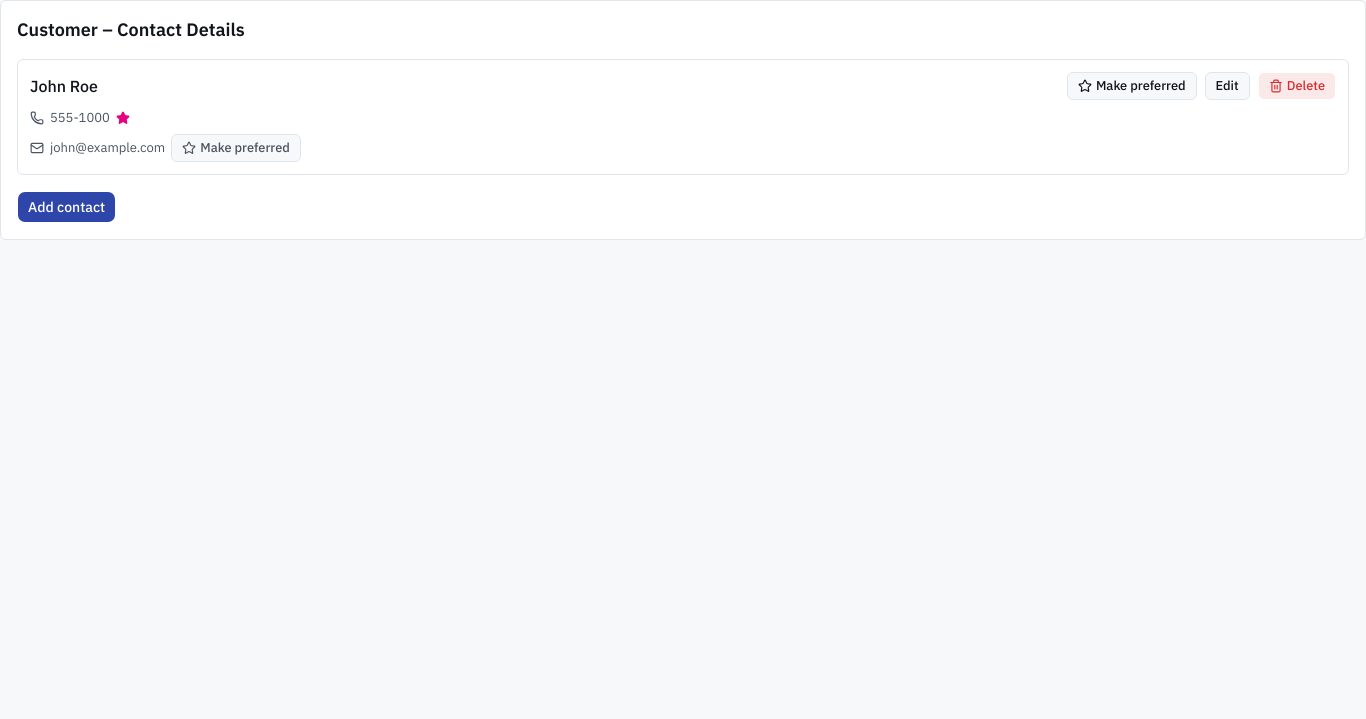
Test case: ContactManagerPanel › editing a contact and clearing its preferred method while another is populated shows the inline block message
This screenshot has width=1366, height=719.
Click the button "Edit": [1227, 86] box [1205,72,1250,100]
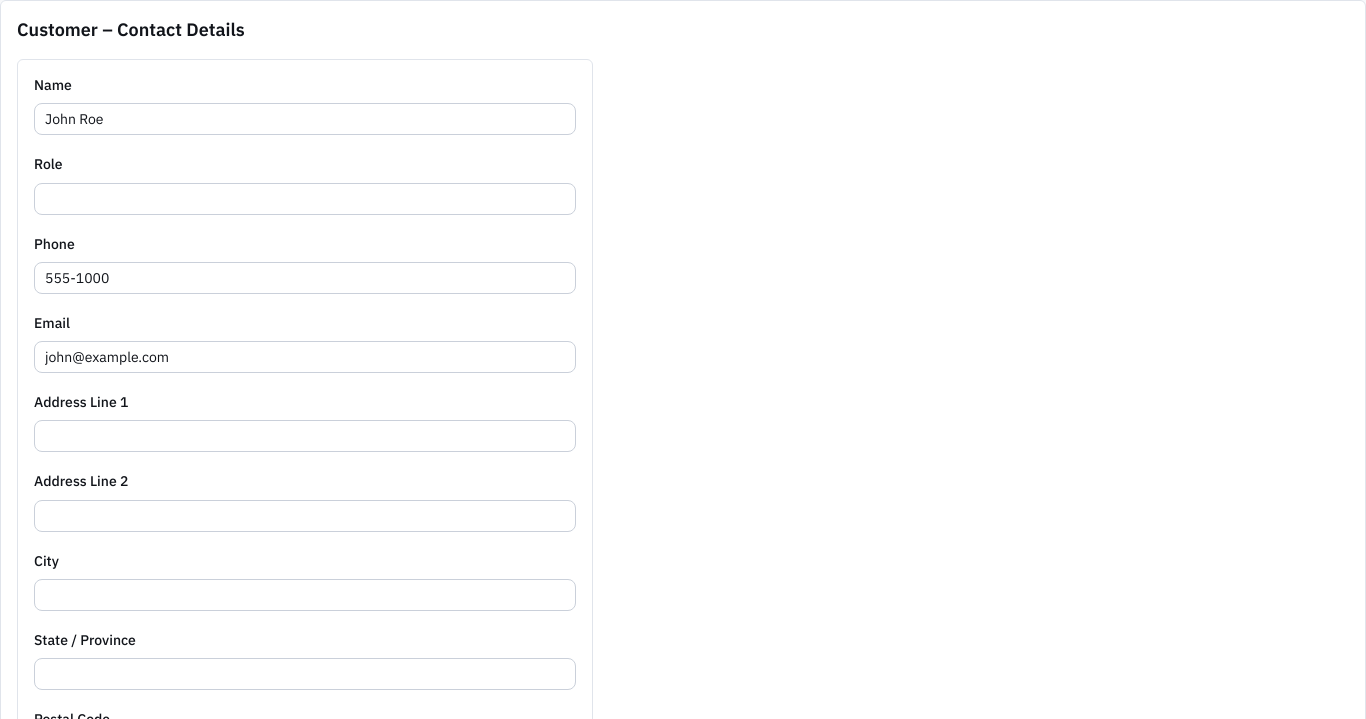
Clear the field labelled "Phone": [305, 278] box [34,262,576,294]
(page scrolled)
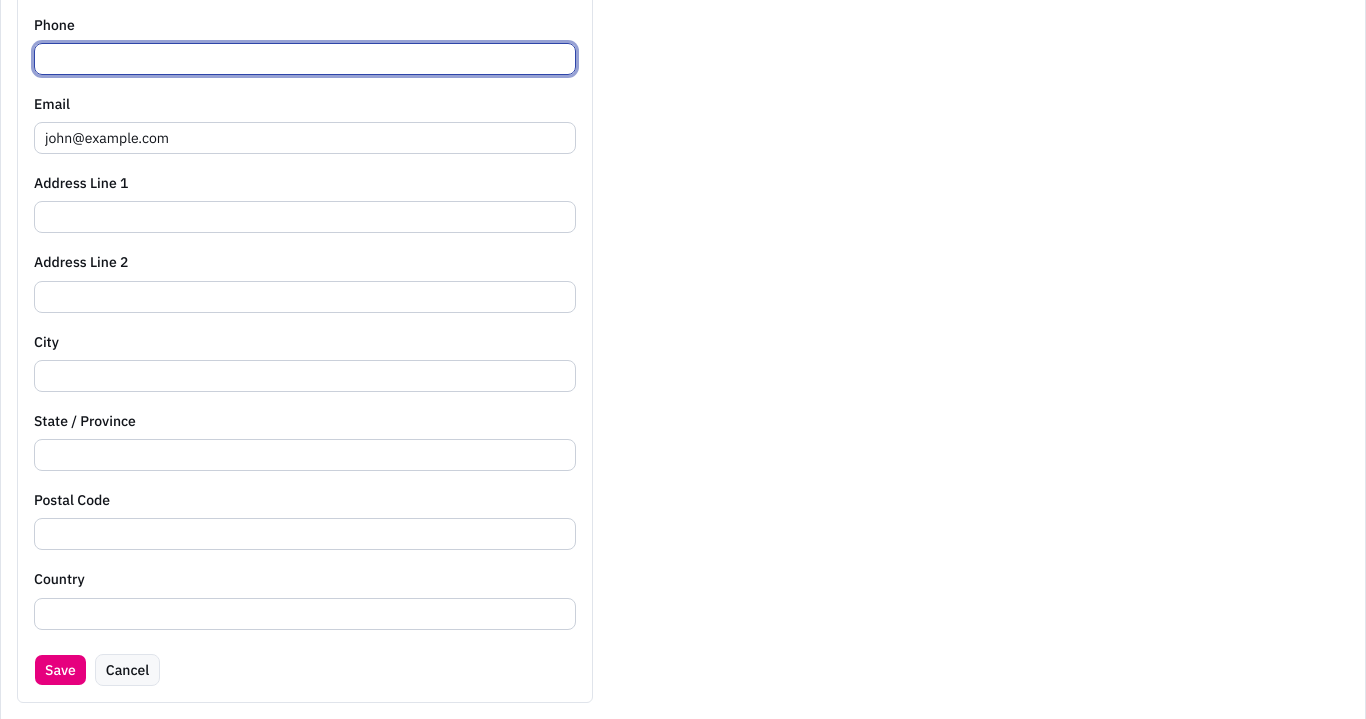
Click the button "Save": [60, 670] box [34,654,87,686]
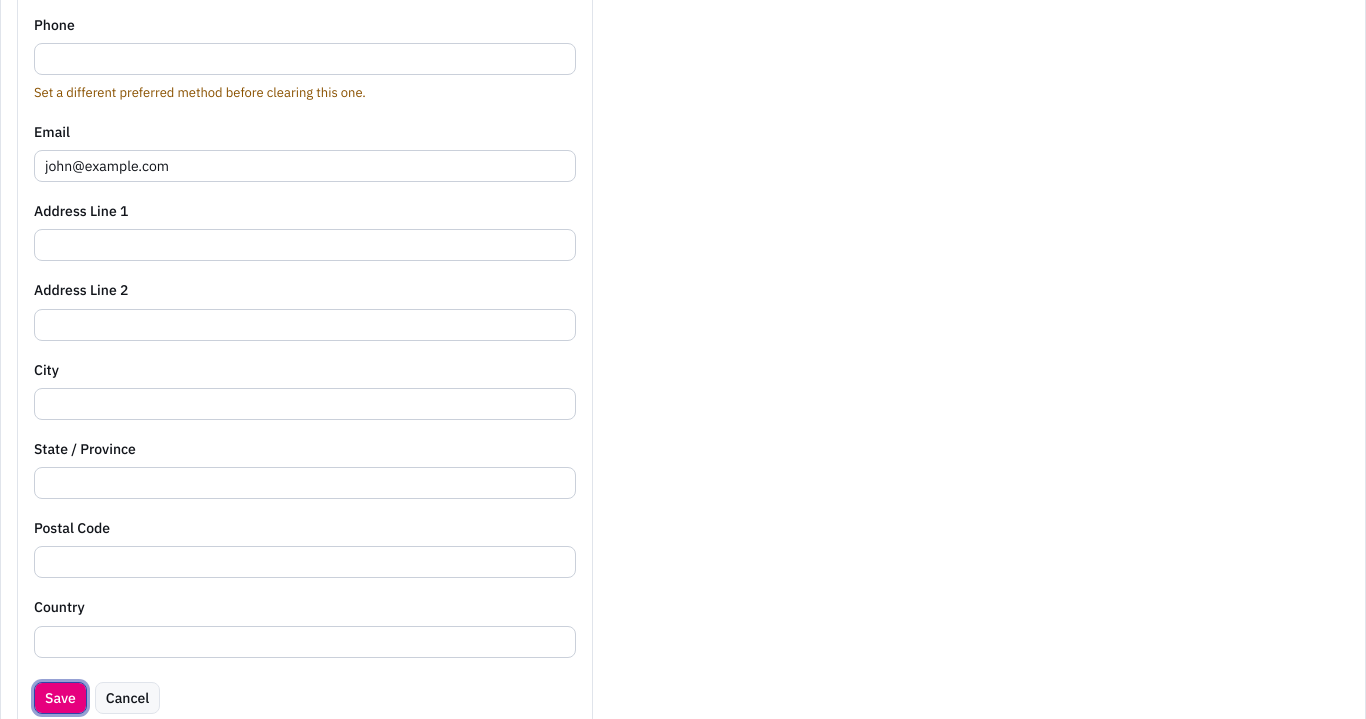
Expected: the text "Set a different preferred method before clearing this one." is shown, [34,84,366,101]
